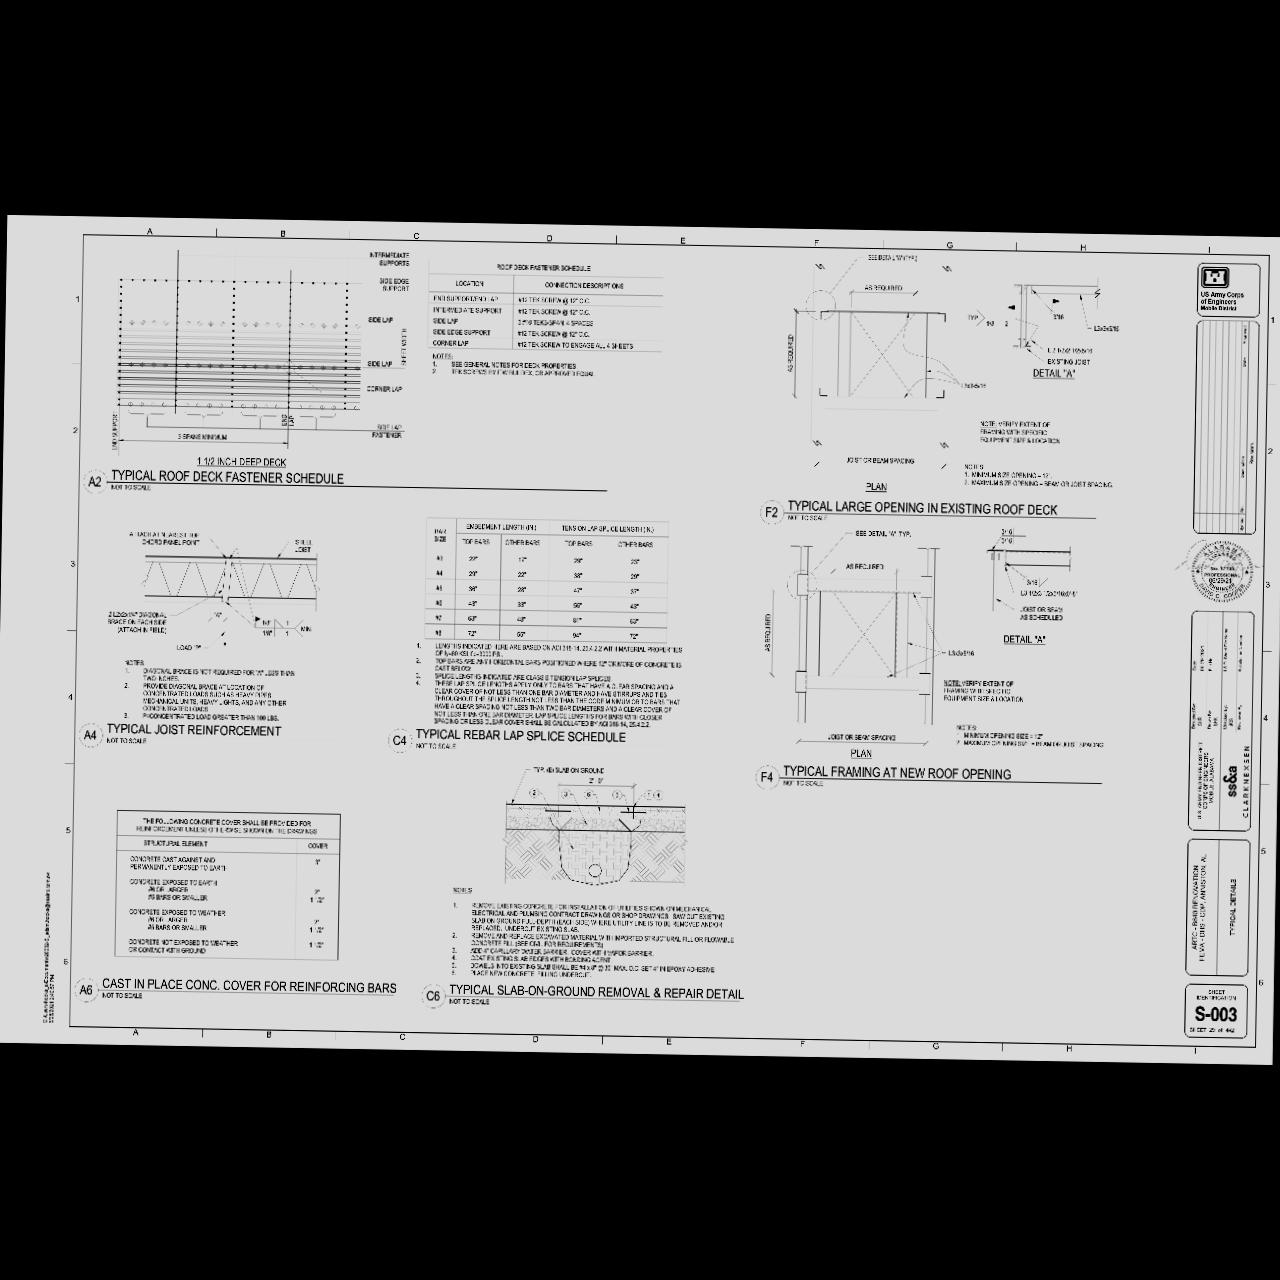title: (80, 465, 613, 508), (748, 758, 1110, 802), (753, 493, 1102, 535), (72, 971, 402, 1012), (418, 979, 749, 1017), (384, 724, 692, 762), (75, 719, 347, 756)
